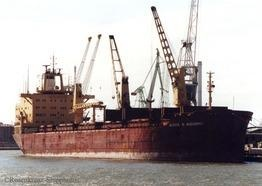Cargoship: (8, 1, 252, 160)
